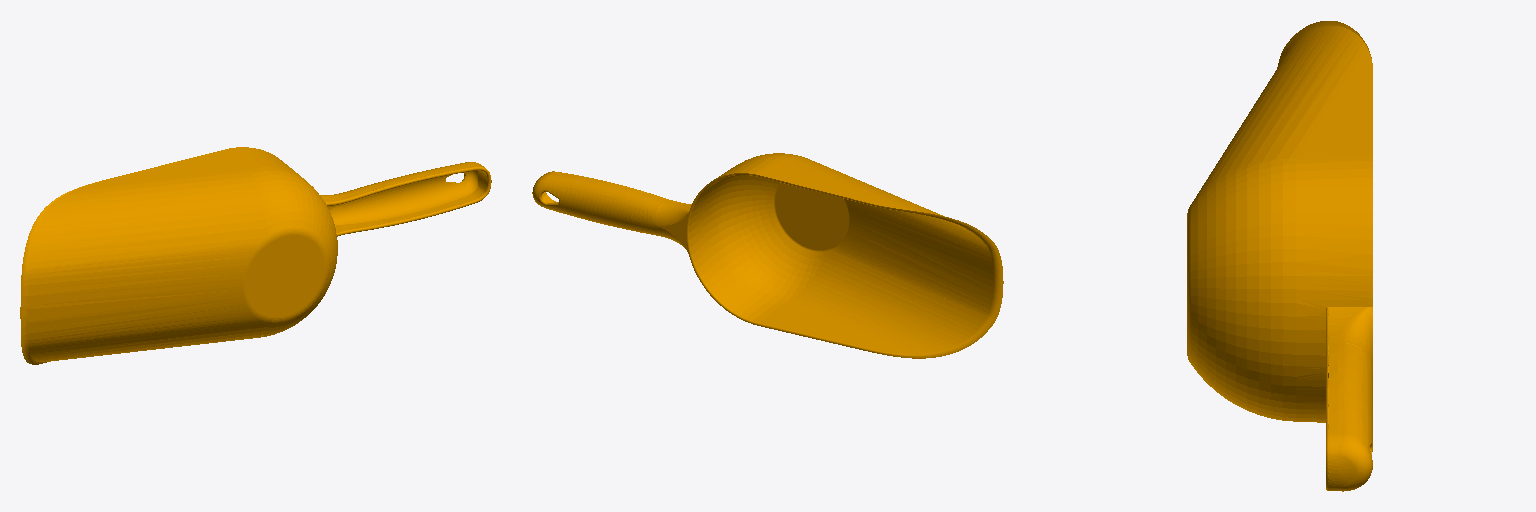
robot.urdf — rbe595_scooper:
<!--URDF generated by ONSHAPE BY PTC INC, 1.223-->
<robot name="rbe595_scooper">
    <link name="root">
        <inertial>
            <mass value="0.00555748" />
            <origin xyz="-0.0632883 0.0306696 -0.0373988" rpy="0 -0 0" />
            <inertia ixx="1.22614e-06" ixy="1.22231e-06" ixz="2.85879e-07" iyy="6.66177e-06" iyz="3.6802e-07" izz="7.29841e-06" />
        </inertial>
        <visual>
            <origin xyz="0 0 0" rpy="0 -0 0" />
            <geometry>
                <mesh filename="../meshes/_.stl" scale="1 1 1" />
            </geometry>
        </visual>
    </link>
</robot>

--- Render facts (derived) ---
3 views of the same robot in one strip: view 1: azimuth 30°, elevation 25°; view 2: azimuth 150°, elevation 25°; view 3: azimuth 270°, elevation 25° (orthographic).
Model rbe595_scooper with 1 links and 0 joints (none), rooted at root, posed all joints at 0.
Visible links, largest first — view 1: root; view 2: root; view 3: root.
Boxes of the visible links, left/top/right/bottom form: root: left=20, top=147, right=491, bottom=364; root: left=532, top=153, right=1003, bottom=358; root: left=1187, top=21, right=1372, bottom=491.
Bounding box of the posed robot: 0.2938 × 0.063 × 0.095 m (x, y, z).
Meshes: 1 distinct files referenced, 1 mesh visuals loaded (1 binary STL).
